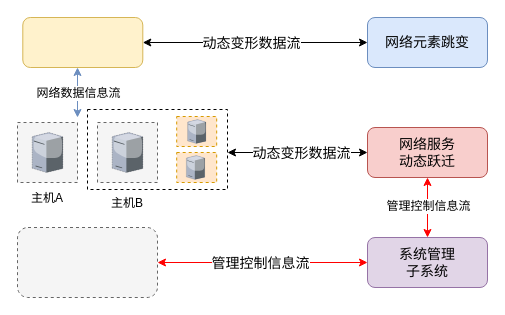
This 505x315 diagram has some shape labels left out. The shapes that lost their labels are listed below. From the top down, each one's centre as x and y in pixels, then its label:
the point at 82,42: 通信指纹变换
the point at 87,262: 内网逻辑切片
